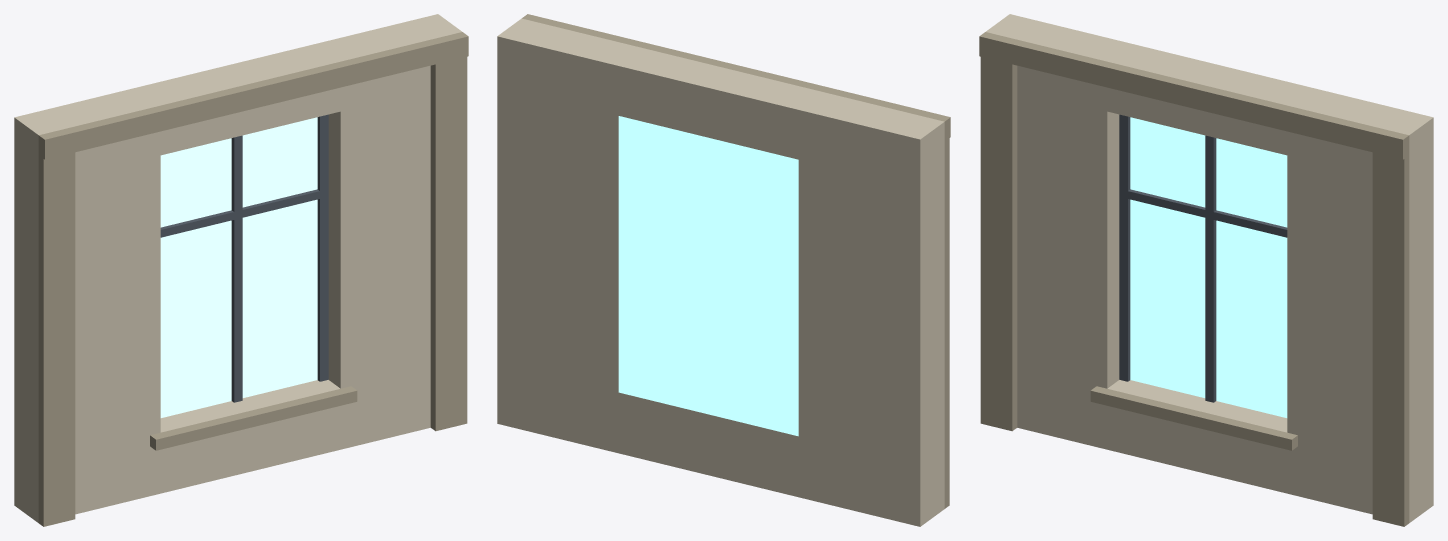
The model's file is co_win.glb.
3 renders of one model, left to right at view 1: azimuth 30°, elevation 25°; view 2: azimuth 150°, elevation 25°; view 3: azimuth 330°, elevation 25°, orthographic.
Visible parts, largest first — view 1: city_co_win; view 2: city_co_win; view 3: city_co_win.
Boxes of the visible parts, left/top/right/bottom form: city_co_win: left=14, top=14, right=468, bottom=526; city_co_win: left=497, top=14, right=950, bottom=526; city_co_win: left=979, top=14, right=1433, bottom=526.
Bounding box in the file's own units: 4 × 3.5 × 0.5.
Materials: 1 (1 with a texture image).
